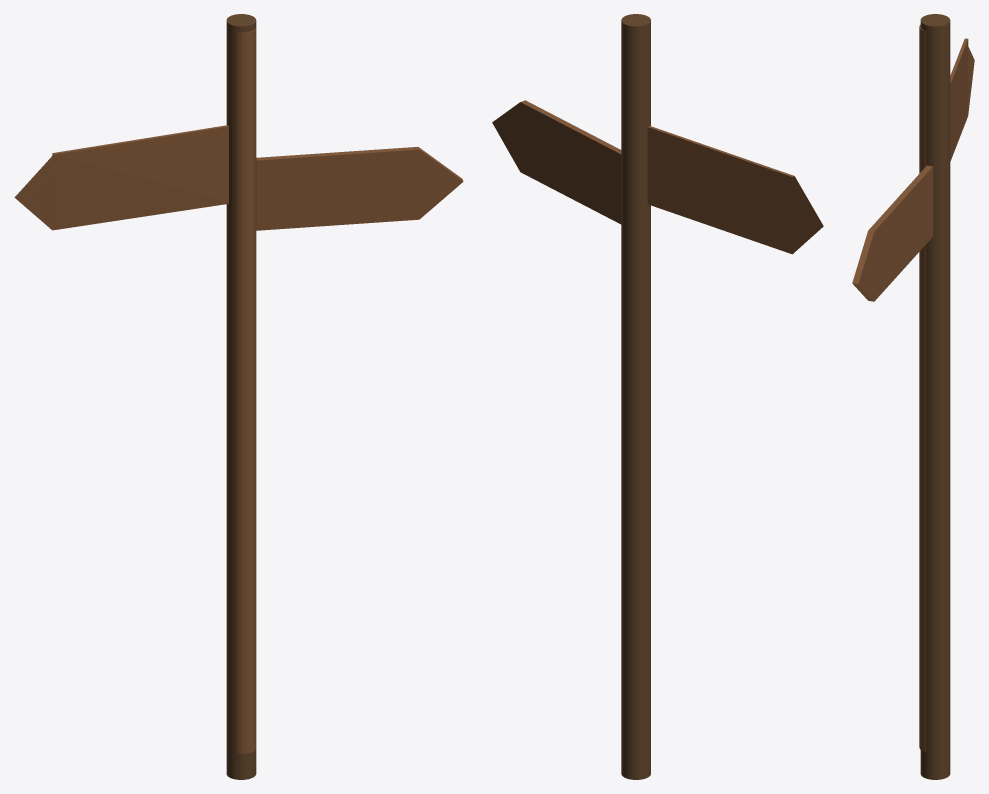
File: sign.482f5056.glb
3 views of the same model, side by side, from view 1: azimuth 30°, elevation 25°; view 2: azimuth 150°, elevation 25°; view 3: azimuth 270°, elevation 25° (orthographic).
Parts seen in each view (by area): view 1: Cylinder, Cylinder.001; view 2: Cylinder.001, Cylinder; view 3: Cylinder.001, Cylinder.
Part boxes in pixels (x1,y1,x2,y2): Cylinder: (14,28,463,753); Cylinder.001: (226,14,256,779); Cylinder.001: (621,14,650,779); Cylinder: (492,100,823,254); Cylinder.001: (920,14,950,779); Cylinder: (852,24,974,751).
Size of the model in its own units: 5.02 by 9.28 by 1.37.
